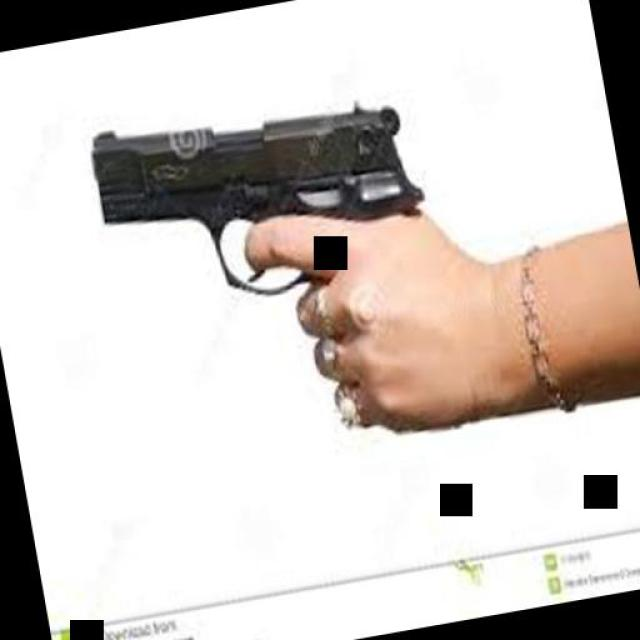gun: (78, 50, 472, 488)
